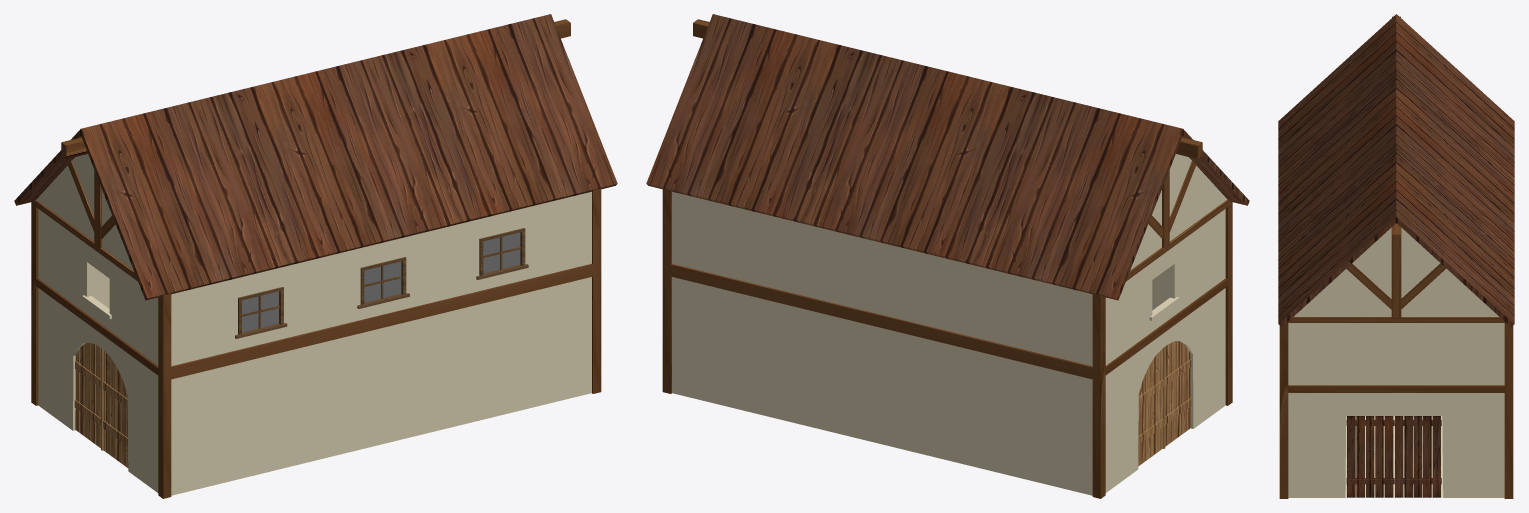
File: Stable Test .fbx
3 views of the same model, side by side, from view 1: azimuth 30°, elevation 25°; view 2: azimuth 150°, elevation 25°; view 3: azimuth 270°, elevation 25° (orthographic). The views are drawn at different scales.
Parts seen in each view (by area): view 1: Stable, Telhado Stable, Detalhes Stable, Stable Janelas, Stable Porta; view 2: Stable, Telhado Stable, Detalhes Stable, Stable Porta; view 3: Telhado Stable, Stable, Detalhes Stable, Stable.001.
Part boxes in pixels (left/top/right/bottom): Stable: left=35, top=154, right=591, bottom=495; Telhado Stable: left=14, top=14, right=617, bottom=300; Detalhes Stable: left=31, top=19, right=601, bottom=498; Stable Janelas: left=235, top=228, right=528, bottom=338; Stable Porta: left=74, top=342, right=128, bottom=467; Stable: left=672, top=154, right=1227, bottom=495; Telhado Stable: left=646, top=14, right=1249, bottom=300; Detalhes Stable: left=662, top=19, right=1232, bottom=498; Stable Porta: left=1138, top=341, right=1191, bottom=466; Telhado Stable: left=1278, top=14, right=1514, bottom=326; Stable: left=1288, top=227, right=1504, bottom=497; Detalhes Stable: left=1279, top=16, right=1513, bottom=498; Stable.001: left=1346, top=416, right=1441, bottom=497.
Size of the model in its own units: 885 by 546 by 405.
